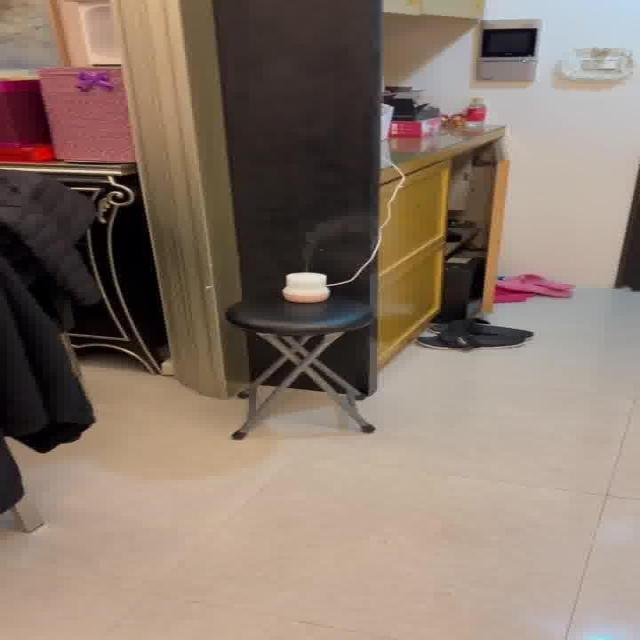fire: (290, 213, 360, 262)
